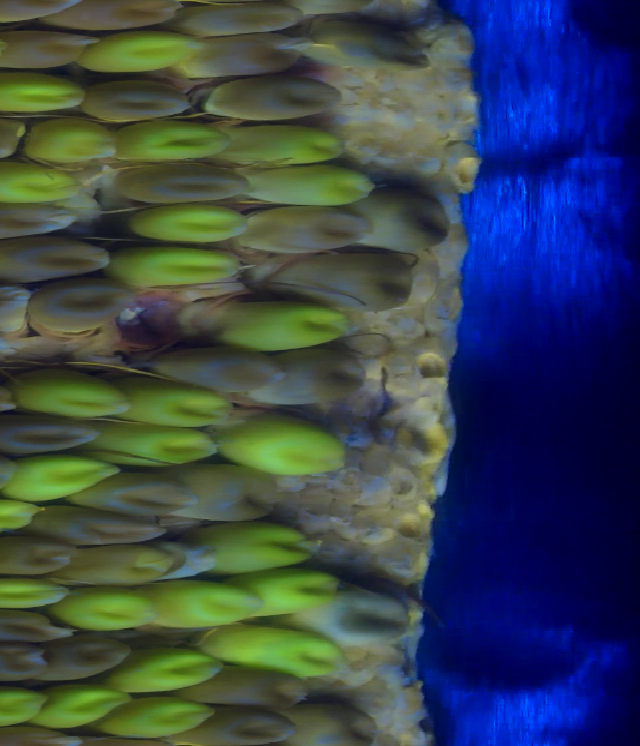fluorescent: (233, 415, 354, 484), (209, 296, 359, 351), (209, 522, 322, 576), (14, 365, 133, 415), (218, 628, 350, 673), (244, 163, 376, 207), (144, 583, 259, 632), (84, 28, 194, 78), (128, 384, 240, 431), (127, 207, 255, 248), (27, 115, 121, 170), (257, 567, 344, 626), (121, 247, 244, 288), (9, 457, 120, 502), (116, 125, 231, 165), (224, 125, 347, 162), (110, 428, 218, 469), (120, 646, 224, 687), (0, 66, 84, 110), (58, 592, 147, 632), (122, 696, 207, 737), (0, 161, 75, 200), (0, 574, 57, 611), (51, 688, 116, 720), (0, 694, 47, 726), (0, 499, 39, 531)
nonfluorescent: (285, 254, 420, 310), (329, 577, 416, 658), (375, 177, 457, 261), (324, 17, 435, 77), (237, 204, 377, 251), (31, 277, 133, 341), (159, 343, 285, 394), (211, 77, 341, 121), (97, 474, 197, 524), (197, 469, 282, 524), (126, 163, 252, 199), (178, 1, 305, 36), (282, 351, 360, 407), (60, 1, 187, 35), (86, 76, 190, 117), (204, 706, 302, 746), (38, 506, 153, 540), (0, 237, 114, 270), (189, 41, 300, 73), (298, 700, 375, 746), (0, 417, 105, 450), (49, 639, 124, 685), (205, 669, 303, 702), (0, 35, 89, 69), (0, 202, 87, 232), (0, 539, 72, 574), (0, 648, 49, 685), (0, 617, 66, 641)
